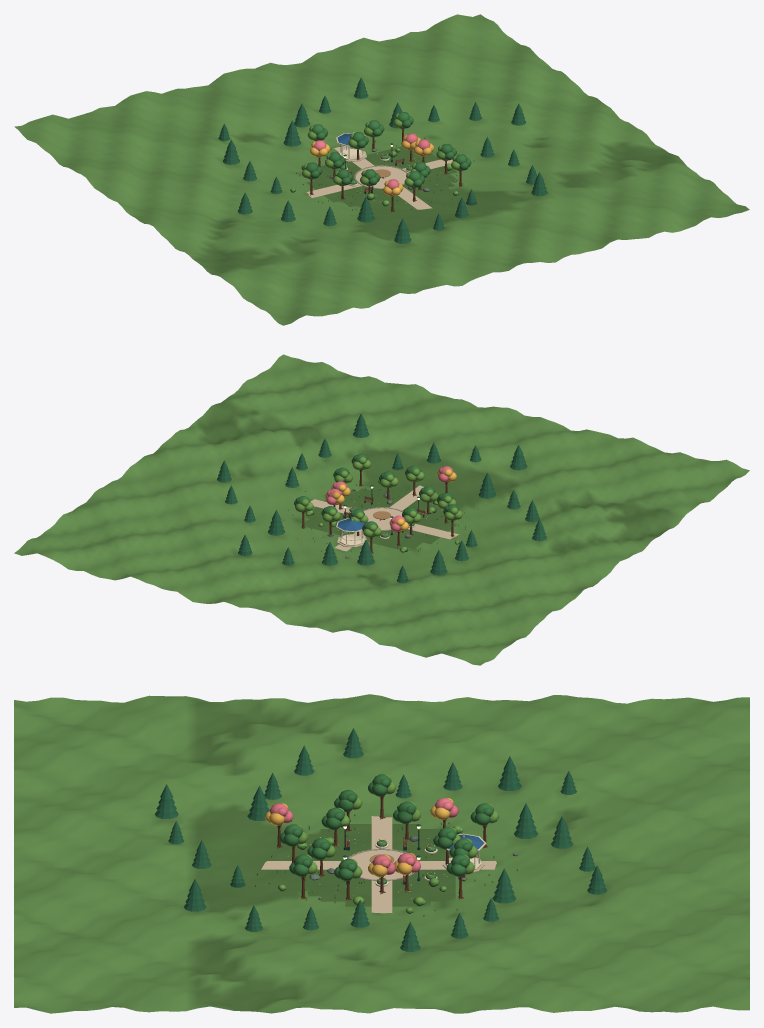
File: parque.glb
The picture shows the model from 3 angles, top to bottom: view 1: azimuth 30°, elevation 25°; view 2: azimuth 150°, elevation 25°; view 3: azimuth 270°, elevation 25°; orthographic projection. The views are drawn at different scales.
Parts seen in each view (by area): view 1: parque; view 2: parque; view 3: parque.
Boxes of the visible parts, left/top/right/bottom form: parque: left=14, top=14, right=749, bottom=325; parque: left=14, top=354, right=749, bottom=665; parque: left=14, top=694, right=749, bottom=1013.
Size of the model in its own units: 90 by 6.56 by 90.
